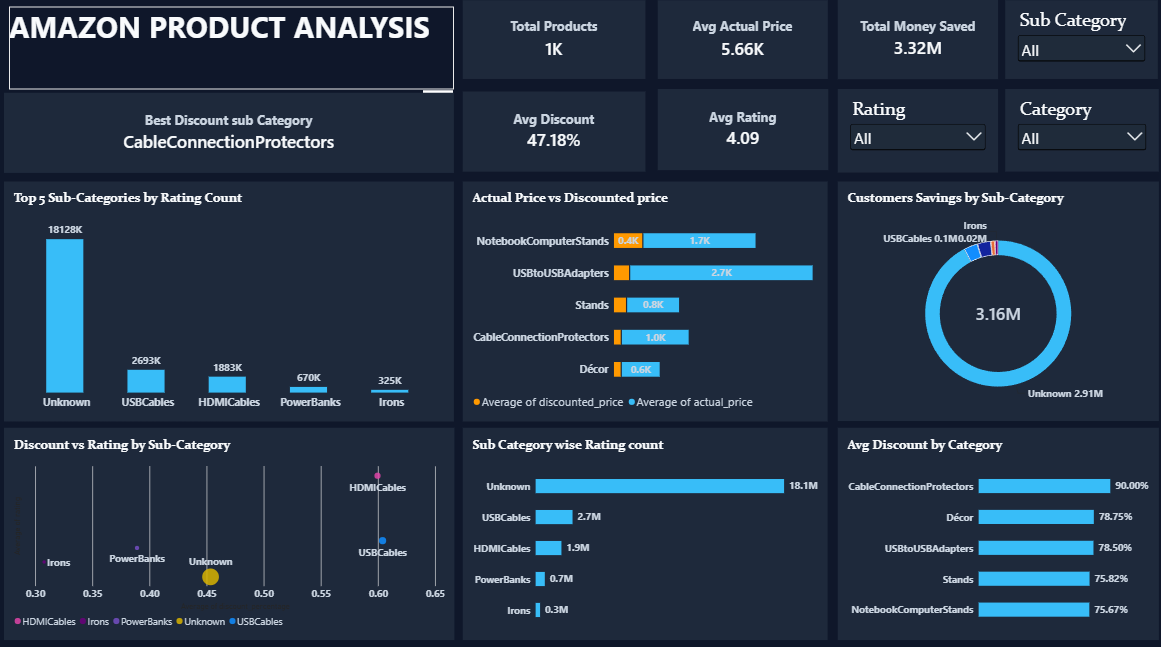

Layout of this report page (visuals, bound fields, positions):
{"tool":"powerbi","page":{"name":"Page 1","canvas":[1920,1080],"ordinal":0},"visuals":[{"type":"cardVisual","fields":{"Data":["amazon.Total Orders"]},"box":[763.6,10.3,300.5,129.7],"z":0},{"type":"cardVisual","fields":{"Data":["amazon.Avg Rating"]},"box":[1084,155.6,280.5,133.9],"z":1000},{"type":"cardVisual","fields":{"Data":["amazon.Avg Actual Price"]},"box":[1084.7,10.3,279.9,129.7],"z":2000},{"type":"cardVisual","fields":{"Data":["amazon.Avg Discount"]},"box":[763.6,160.5,300.5,131.7],"z":3000},{"type":"textbox","box":[16.3,19.9,732.9,135.7],"z":4000},{"type":"barChart","title":"Actual Price vs Discounted price","fields":{"Category":["amazon.category"],"Y":["Avg(amazon.discounted_price)","Avg(amazon.actual_price)"]},"box":[763.6,308.7,601,395.2],"z":5000},{"type":"columnChart","title":"Top 5 Sub-Categories by Rating Count","fields":{"Category":["amazon.sub_category"],"Y":["Sum(amazon.rating_count)"]},"box":[8.2,308.7,741,395.2],"z":6000},{"type":"barChart","title":"Avg Discount by Category","fields":{"Category":["amazon.category"],"Y":["amazon.Avg Discount"]},"box":[1380.8,714.8,528.4,349.3],"z":7000},{"type":"clusteredBarChart","title":" Sub Category wise Rating count","fields":{"Y":["Sum(amazon.rating_count)"],"Category":["amazon.sub_category"]},"box":[763.6,714.2,601,349.9],"z":8000},{"type":"cardVisual","fields":{"Data":["amazon.Total Money Saved"]},"box":[1380.8,9,264.2,132.1],"z":9000},{"type":"slicer","fields":{"Values":["amazon.category"]},"box":[1657,156.4,253.2,135.8],"z":10000},{"type":"slicer","fields":{"Values":["amazon.sub_category"]},"box":[1657,10.3,251.1,129.7],"z":11000},{"type":"slicer","fields":{"Values":["amazon.rating"]},"box":[1380.8,155.6,264.2,137.5],"z":12000},{"type":"cardVisual","fields":{"Data":["amazon.Best Discount Category"]},"box":[8.2,162.6,741,131.7],"z":13000},{"type":"donutChart","title":"Customers Savings by Sub-Category","fields":{"Category":["amazon.sub_category"],"Y":["Sum(amazon.After_discount)"]},"box":[1380.8,309.5,528.4,394.5],"z":14000},{"type":"scatterChart","title":"Discount vs Rating by Sub-Category","fields":{"X":["Avg(amazon.discount_percentage)"],"Y":["Avg(amazon.rating)"],"Size":["Sum(amazon.rating_count)"],"Series":["amazon.sub_category"]},"box":[7.2,714.8,742,349.3],"z":15000}]}

Visuals, with their boxes in screenshot pixels (x1, y1, x2, y2), scaled from the page's 1920x1080 canvas onto the 1161x647 screenshot:
cardVisual - amazon.Total Orders: {"x1": 462, "y1": 6, "x2": 643, "y2": 84}
cardVisual - amazon.Avg Rating: {"x1": 655, "y1": 93, "x2": 825, "y2": 173}
cardVisual - amazon.Avg Actual Price: {"x1": 656, "y1": 6, "x2": 825, "y2": 84}
cardVisual - amazon.Avg Discount: {"x1": 462, "y1": 96, "x2": 643, "y2": 175}
textbox: {"x1": 10, "y1": 12, "x2": 453, "y2": 93}
"Actual Price vs Discounted price" barChart: {"x1": 462, "y1": 185, "x2": 825, "y2": 422}
"Top 5 Sub-Categories by Rating Count" columnChart: {"x1": 5, "y1": 185, "x2": 453, "y2": 422}
"Avg Discount by Category" barChart: {"x1": 835, "y1": 428, "x2": 1154, "y2": 637}
" Sub Category wise Rating count" clusteredBarChart: {"x1": 462, "y1": 428, "x2": 825, "y2": 637}
cardVisual - amazon.Total Money Saved: {"x1": 835, "y1": 5, "x2": 995, "y2": 85}
slicer - amazon.category: {"x1": 1002, "y1": 94, "x2": 1155, "y2": 175}
slicer - amazon.sub_category: {"x1": 1002, "y1": 6, "x2": 1154, "y2": 84}
slicer - amazon.rating: {"x1": 835, "y1": 93, "x2": 995, "y2": 176}
cardVisual - amazon.Best Discount Category: {"x1": 5, "y1": 97, "x2": 453, "y2": 176}
"Customers Savings by Sub-Category" donutChart: {"x1": 835, "y1": 185, "x2": 1154, "y2": 422}
"Discount vs Rating by Sub-Category" scatterChart: {"x1": 4, "y1": 428, "x2": 453, "y2": 637}
